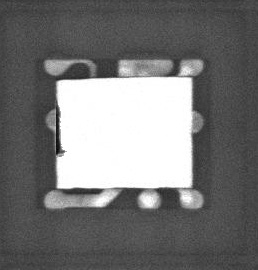DIE_BROKEN: (53, 98, 67, 159)
